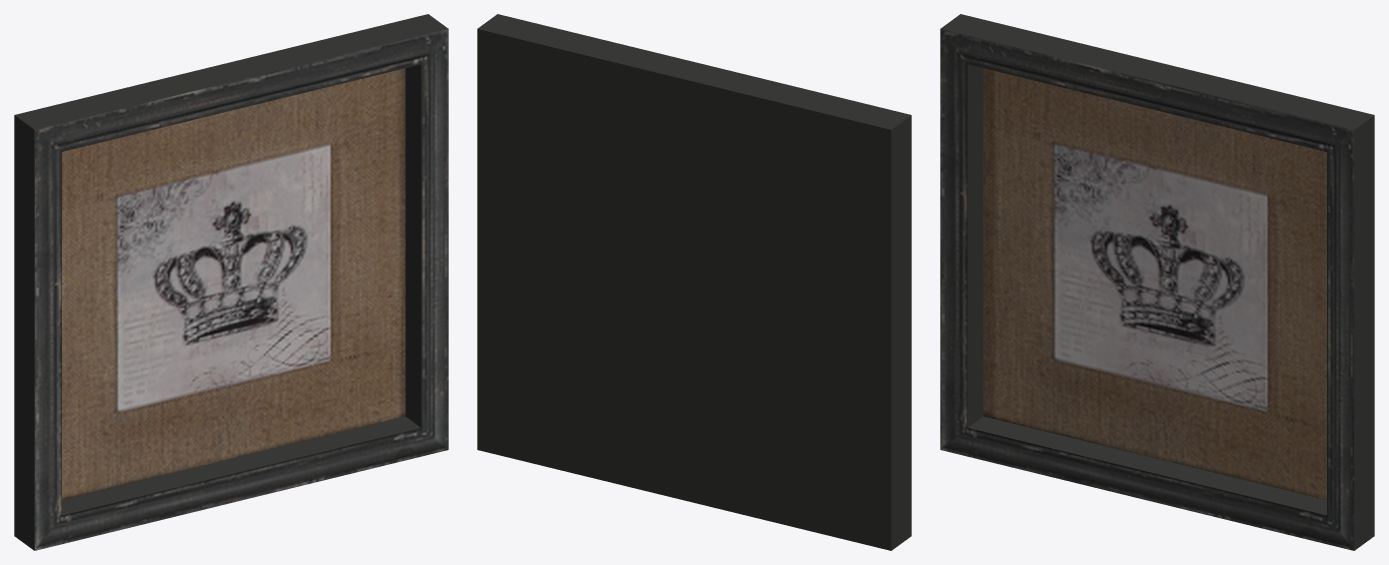
Rendered from Picture 3.FBX.
3 views of the same model, side by side, from view 1: azimuth 30°, elevation 25°; view 2: azimuth 150°, elevation 25°; view 3: azimuth 330°, elevation 25° (orthographic).
Visible parts, largest first — view 1: Picture 3; view 2: Picture 3; view 3: Picture 3.
Part boxes in pixels (box(x1,y1,x2,y2)): Picture 3: box(14, 14, 448, 550); Picture 3: box(477, 14, 911, 550); Picture 3: box(940, 14, 1374, 550).
Size of the model in its own units: 69.55 by 5.92 by 67.57.
1 material, 1 textured.
